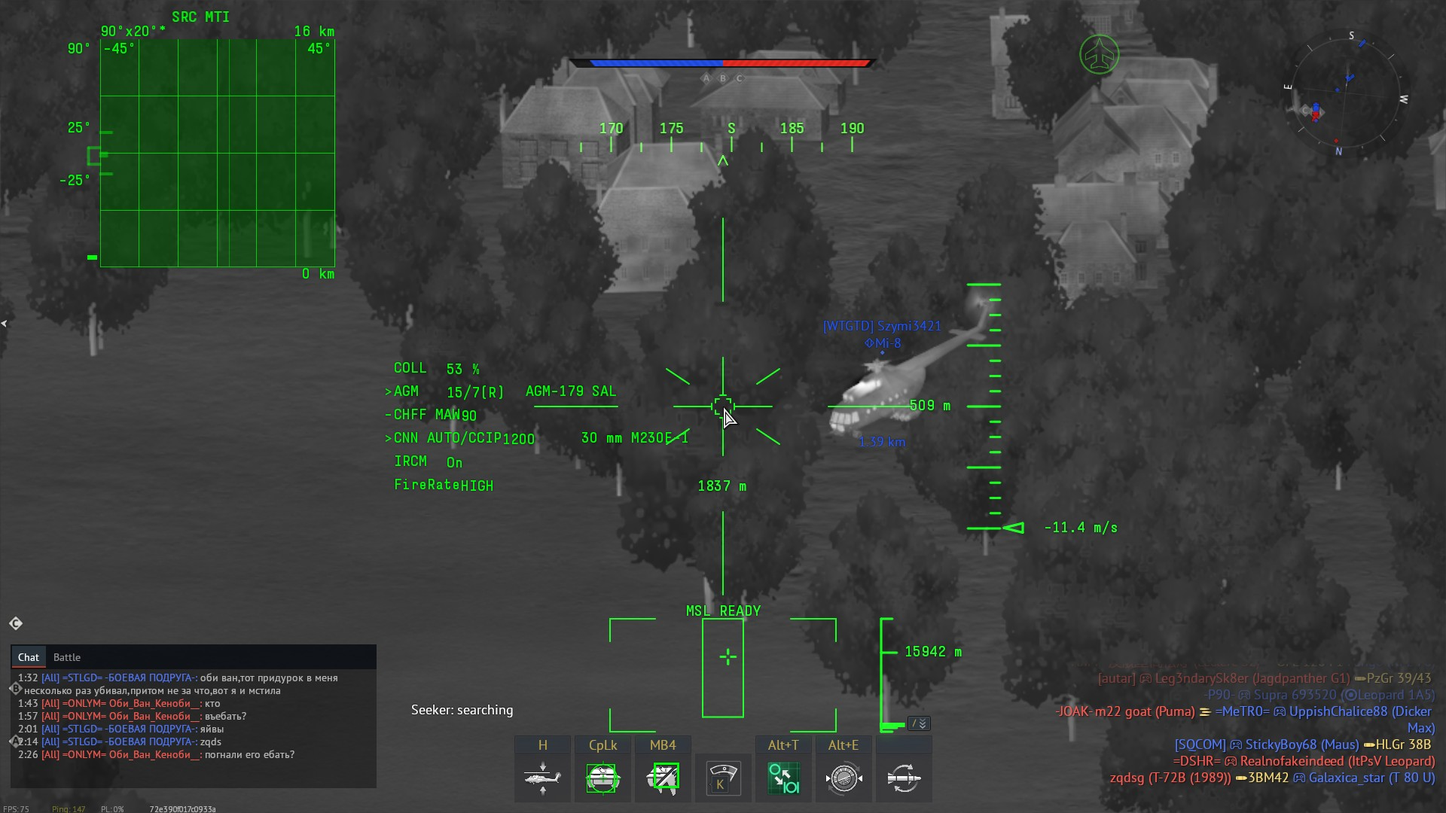mi8: (818, 289, 1001, 440)
